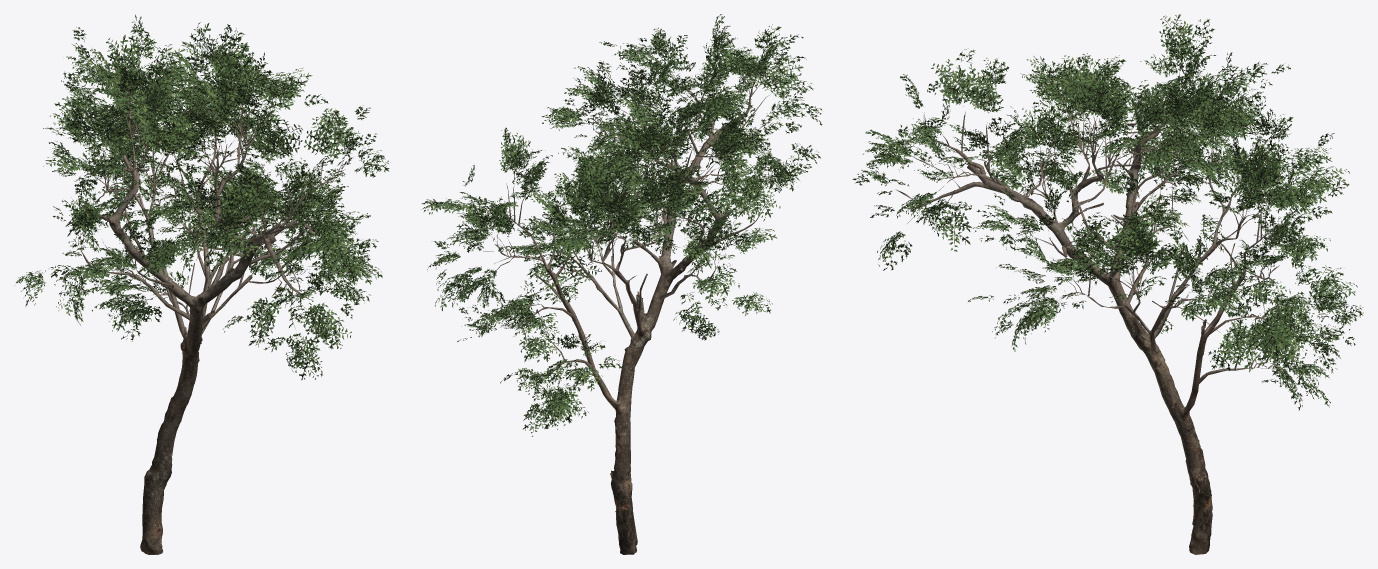
File: tree-small-02.glb
The picture shows the model from 3 angles, left to right: view 1: azimuth 30°, elevation 25°; view 2: azimuth 150°, elevation 25°; view 3: azimuth 270°, elevation 25°; orthographic projection. The views are drawn at different scales.
Visible parts, largest first — view 1: tree_small_02_LOD0; view 2: tree_small_02_LOD0; view 3: tree_small_02_LOD0.
Part boxes in pixels (x1,y1,x2,y2): tree_small_02_LOD0: [16, 14, 390, 554]; tree_small_02_LOD0: [421, 14, 822, 554]; tree_small_02_LOD0: [852, 14, 1363, 554].
Bounding box in the file's own units: 2.91 × 4.56 × 4.24.
3 materials, 3 textured.
